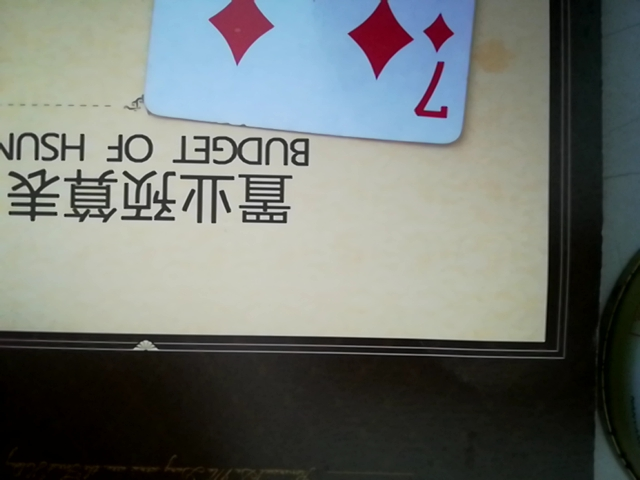fk 7: (136, 0, 499, 150)
